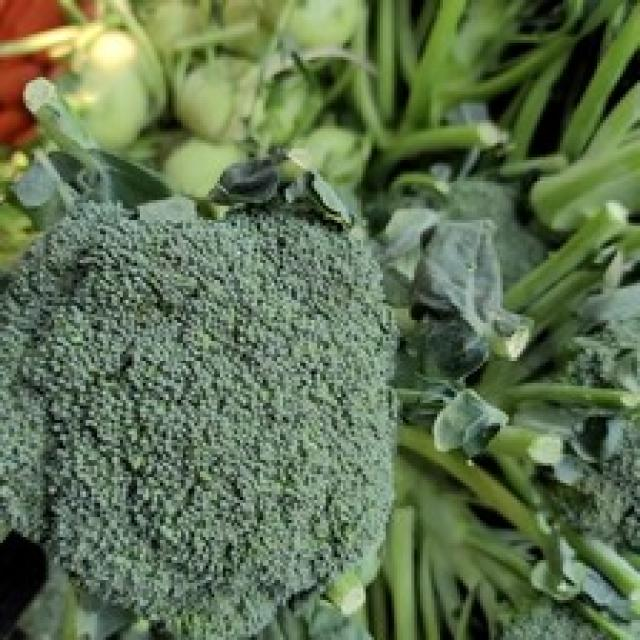Broccoli: (1, 204, 395, 640), (2, 205, 395, 639)
